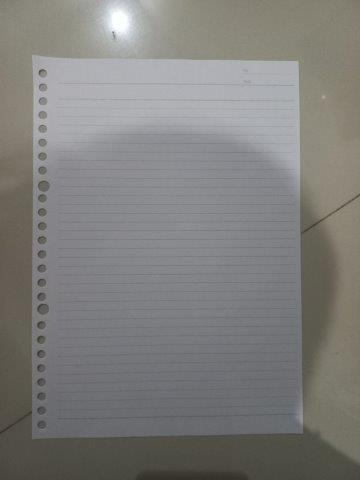kertas: (30, 54, 302, 433)
